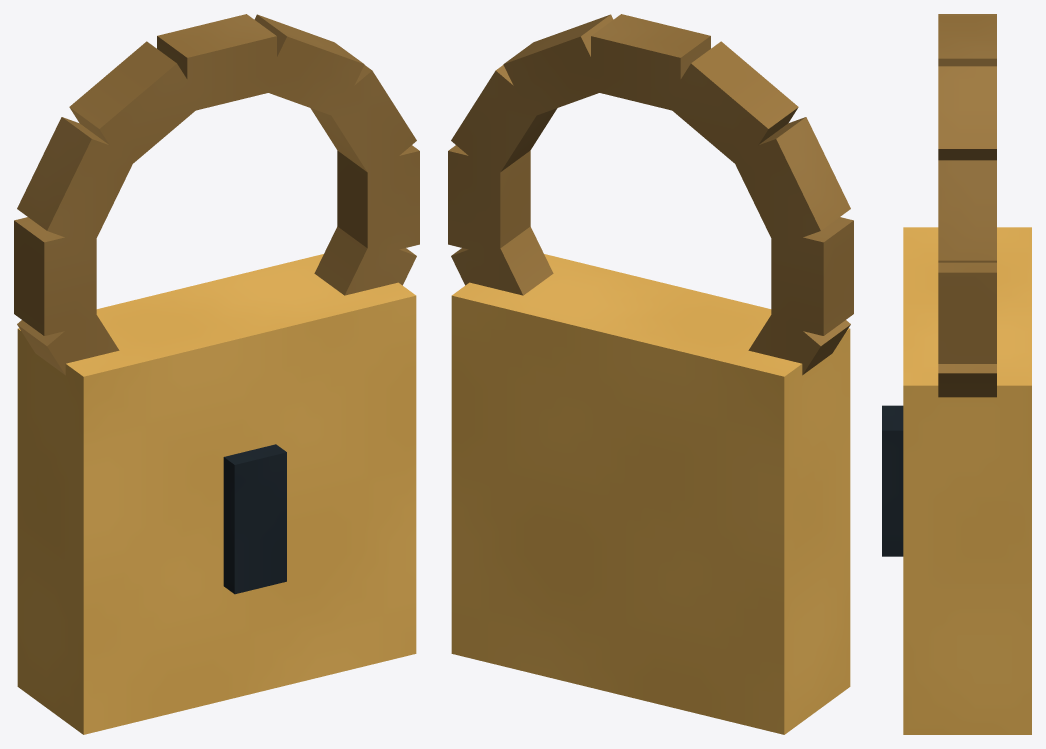
The model's file is door_lock.obj.
3 renders of one model, left to right at view 1: azimuth 30°, elevation 25°; view 2: azimuth 150°, elevation 25°; view 3: azimuth 270°, elevation 25°, orthographic. The views are drawn at different scales.
Visible parts, largest first — view 1: door_lock; view 2: door_lock; view 3: door_lock.
Boxes of the visible parts, x1,y1,x2,y2 form: door_lock: (14, 14, 419, 734); door_lock: (448, 14, 853, 734); door_lock: (882, 14, 1031, 734).
Size of the model in its own units: 0.395 by 0.6375 by 0.14.
Materials: 3 (3 with a texture image).
